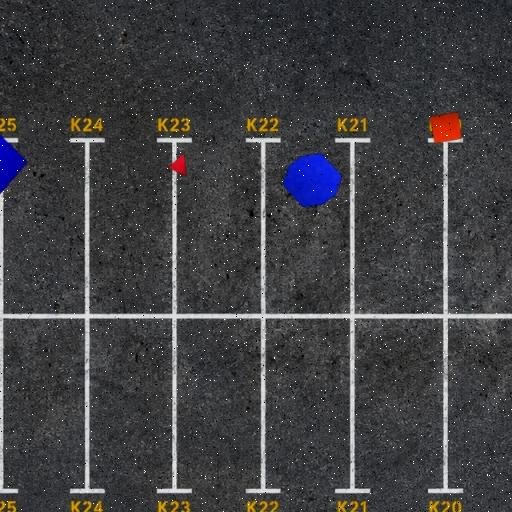BLUE_SQUARE: (0, 119, 29, 205)
RED_SQUARE: (429, 111, 462, 144)
